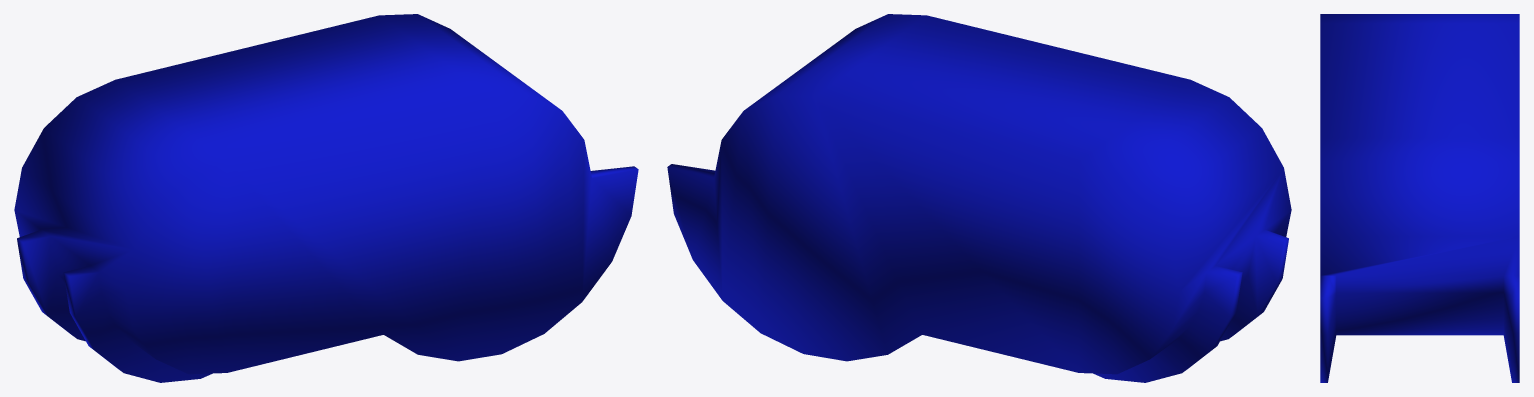
Rendered from ph_medium.obj.
3 views of the same model, side by side, from view 1: azimuth 30°, elevation 25°; view 2: azimuth 150°, elevation 25°; view 3: azimuth 270°, elevation 25° (orthographic). The views are drawn at different scales.
Visible parts, largest first — view 1: ph_medium; view 2: ph_medium; view 3: ph_medium.
Boxes of the visible parts, bbox=[...] form: ph_medium: bbox=[14, 14, 638, 382]; ph_medium: bbox=[667, 14, 1291, 382]; ph_medium: bbox=[1320, 14, 1519, 382].
Size of the model in its own units: 34.75 by 15.98 by 12.5.
